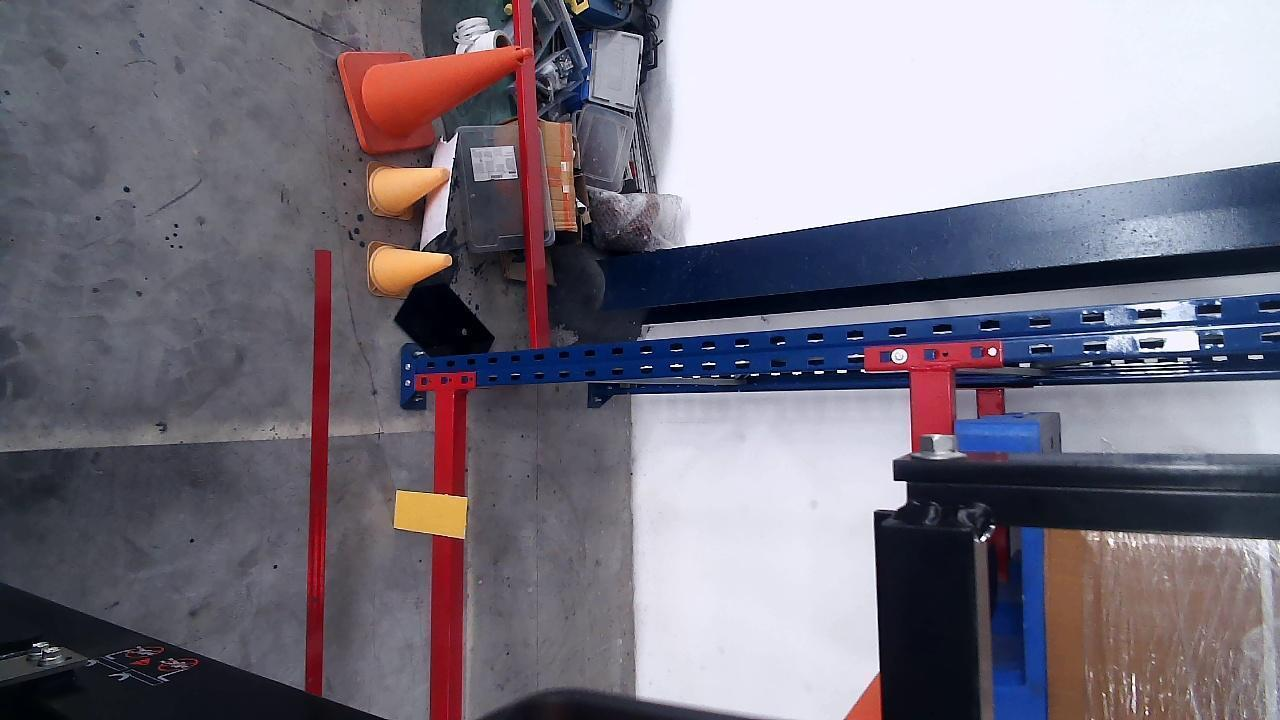red_line: (306, 247, 330, 699)
